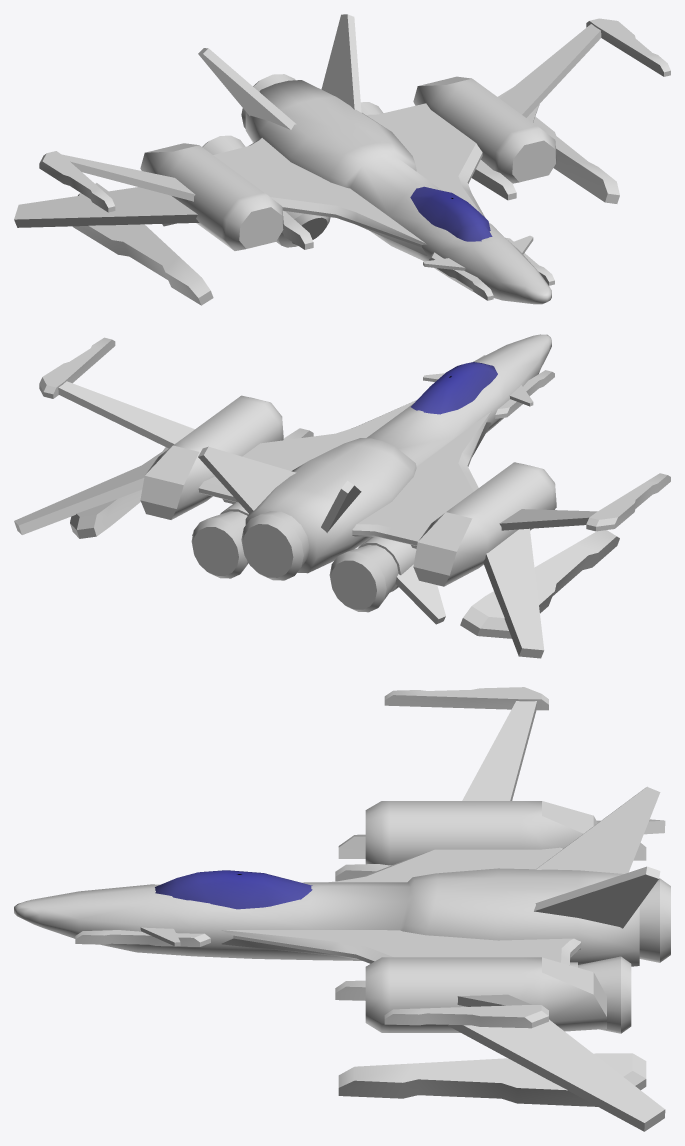
The model's file is LittleSpaceShip.fbx.
The picture shows the model from 3 angles, top to bottom: view 1: azimuth 30°, elevation 25°; view 2: azimuth 150°, elevation 25°; view 3: azimuth 270°, elevation 25°; orthographic projection. The views are drawn at different scales.
Visible parts, largest first — view 1: StarSparrow_Core, StarSparrow_Plasma, StarSparrow_Plasma.001, StarSparrow_Wing_1.001, StarSparrow_Wing_1.002, StarSparrow_Wing_3, StarSparrow_Weapon.001, StarSparrow_Wing_3.002, StarSparrow_Core.001, StarSparrow_Wing_2.003, StarSparrow_Weapon.006, StarSparrow_Wing_2.002 (+8 smaller); view 2: StarSparrow_Core, StarSparrow_Plasma, StarSparrow_Plasma.001, StarSparrow_Wing_1.001, StarSparrow_Wing_3, StarSparrow_Weapon.001, StarSparrow_Thruster, StarSparrow_Thruster.001, StarSparrow_Wing_1.002, StarSparrow_Wing_2.003, StarSparrow_Thruster.004, StarSparrow_Wing_3.002 (+10 smaller); view 3: StarSparrow_Core, StarSparrow_Plasma.001, StarSparrow_Plasma, StarSparrow_Weapon.006, StarSparrow_Wing_3.003, StarSparrow_Wing_1.002, StarSparrow_Wing_2.002, StarSparrow_Core.001, StarSparrow_Wing_2.003, StarSparrow_Wing_1.001, StarSparrow_Wing_3.001, StarSparrow_Weapon.007 (+6 smaller).
Boxes of the visible parts, x1=… form: StarSparrow_Core: x1=245, y1=80, x2=551, y2=304; StarSparrow_Plasma: x1=140, y1=143, x2=283, y2=250; StarSparrow_Plasma.001: x1=413, y1=76, x2=556, y2=183; StarSparrow_Wing_1.001: x1=213, y1=138, x2=427, y2=255; StarSparrow_Wing_1.002: x1=366, y1=103, x2=485, y2=217; StarSparrow_Wing_3: x1=14, y1=187, x2=199, y2=227; StarSparrow_Weapon.001: x1=72, y1=183, x2=213, y2=305; StarSparrow_Wing_3.002: x1=500, y1=24, x2=601, y2=117; StarSparrow_Core.001: x1=410, y1=186, x2=492, y2=241; StarSparrow_Wing_2.003: x1=321, y1=14, x2=361, y2=112; StarSparrow_Weapon.006: x1=533, y1=116, x2=619, y2=203; StarSparrow_Wing_2.002: x1=198, y1=48, x2=296, y2=129; StarSparrow_Core: x1=245, y1=334, x2=551, y2=573; StarSparrow_Plasma: x1=413, y1=462, x2=556, y2=586; StarSparrow_Plasma.001: x1=140, y1=395, x2=283, y2=519; StarSparrow_Wing_1.001: x1=352, y1=411, x2=491, y2=545; StarSparrow_Wing_3: x1=483, y1=528, x2=544, y2=658; StarSparrow_Weapon.001: x1=460, y1=530, x2=619, y2=638; StarSparrow_Thruster: x1=241, y1=511, x2=309, y2=580; StarSparrow_Thruster.001: x1=329, y1=545, x2=398, y2=612; StarSparrow_Wing_1.002: x1=198, y1=400, x2=416, y2=502; StarSparrow_Wing_2.003: x1=198, y1=446, x2=296, y2=513; StarSparrow_Thruster.004: x1=191, y1=511, x2=248, y2=578; StarSparrow_Wing_3.002: x1=58, y1=381, x2=194, y2=448; StarSparrow_Core: x1=14, y1=868, x2=639, y2=966; StarSparrow_Plasma.001: x1=365, y1=957, x2=606, y2=1032; StarSparrow_Plasma: x1=365, y1=801, x2=597, y2=865; StarSparrow_Weapon.006: x1=338, y1=1053, x2=646, y2=1106; StarSparrow_Wing_3.003: x1=448, y1=1019, x2=665, y2=1131; StarSparrow_Wing_1.002: x1=221, y1=930, x2=581, y2=965; StarSparrow_Wing_2.002: x1=536, y1=787, x2=660, y2=873; StarSparrow_Core.001: x1=155, y1=870, x2=312, y2=909; StarSparrow_Wing_2.003: x1=534, y1=866, x2=660, y2=928; StarSparrow_Wing_1.001: x1=329, y1=847, x2=562, y2=882; StarSparrow_Wing_3.001: x1=462, y1=701, x2=536, y2=800; StarSparrow_Weapon.007: x1=384, y1=1005, x2=548, y2=1028.
Size of what is drawn, in the model's own units: 46526 by 10999 by 39116.
